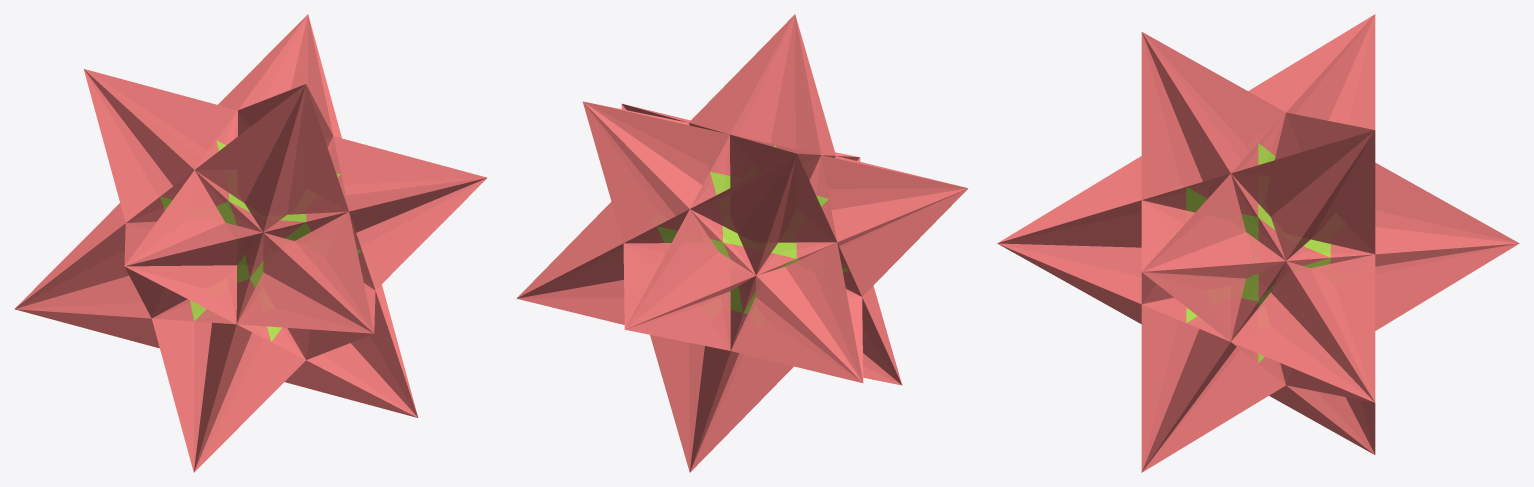
The model's file is 35_Dodekaugmented_Gid.obj.
3 renders of one model, left to right at view 1: azimuth 30°, elevation 25°; view 2: azimuth 150°, elevation 25°; view 3: azimuth 270°, elevation 25°, orthographic. The views are drawn at different scales.
Bounding box in the file's own units: 2 × 2.1 × 2.35.
